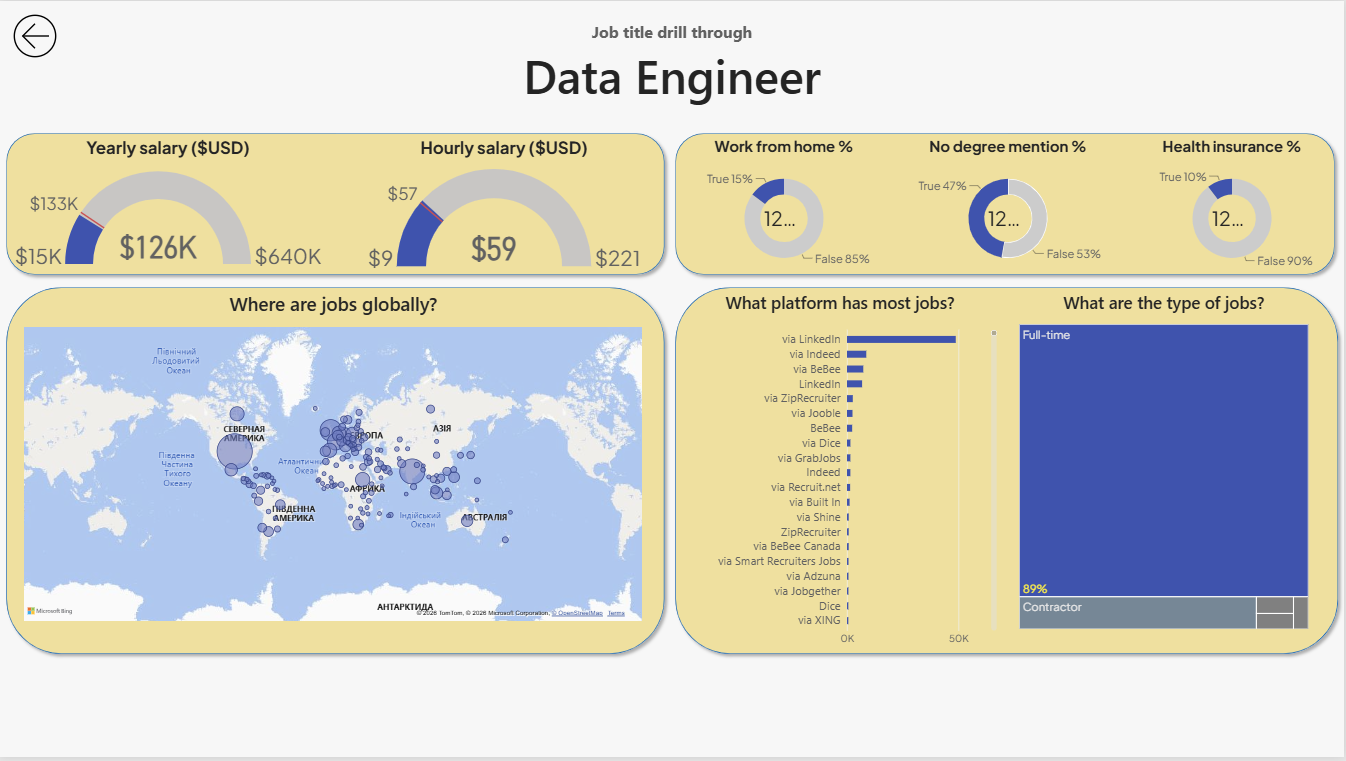

This screenshot's page, from the dashboard's own definition file:
{"tool":"powerbi","page":{"name":"Job title drill  through","canvas":[1920,1080],"ordinal":1},"visuals":[{"type":"group","id":"g1","title":"Background","box":[0,180,1920,761.7],"z":500},{"type":"cardVisual","fields":{"Data":["Min(job_postings_flat.job_title_short)1"]},"box":[480,0,960,180],"z":1000},{"type":"actionButton","box":[0,0,100,100],"z":2000},{"type":"gauge","title":"Yearly salary ($USD)","fields":{"MaxValue":["Max(job_postings_flat.salary_year_avg)1"],"MinValue":["Min(job_postings_flat.salary_year_avg)"],"TargetValue":["Avg(job_postings_flat.salary_year_avg)2"],"Y":["Median(job_postings_flat.salary_year_avg)"]},"box":[0,180,480,220],"z":4000},{"type":"gauge","title":"Hourly salary ($USD)","fields":{"MaxValue":["Max(job_postings_flat.salary_hour_avg)1"],"MinValue":["Min(job_postings_flat.salary_hour_avg)"],"TargetValue":["Avg(job_postings_flat.salary_hour_avg)2"],"Y":["Median(job_postings_flat.salary_hour_avg)"]},"box":[480,180,480,220],"z":6000},{"type":"donutChart","title":"Work from home %","fields":{"Category":["job_postings_flat.job_work_from_home"],"Y":["CountNonNull(job_postings_flat.job_work_from_home)"]},"box":[960,180,320,220],"z":8000},{"type":"donutChart","title":"No degree mention %","fields":{"Category":["job_postings_flat.job_no_degree_mention"],"Y":["CountNonNull(job_postings_flat.job_work_from_home)"]},"box":[1280,180,320,220],"z":9000},{"type":"donutChart","title":"Health insurance %","fields":{"Category":["job_postings_flat.job_health_insurance"],"Y":["CountNonNull(job_postings_flat.job_work_from_home)"]},"box":[1600,180,320,220],"z":10000},{"type":"map","title":"Where are jobs globally?","fields":{"Category":["job_postings_flat.job_country"],"Size":["CountNonNull(job_postings_flat.job_title_short)"]},"box":[18.3,400,915,501.7],"z":11000},{"type":"treemap","title":"What are the type of jobs?","fields":{"Group":["job_postings_flat.job_schedule_type"],"Values":["CountNonNull(job_postings_flat.job_schedule_type)"]},"box":[1440,400,445,513.3],"z":12000},{"type":"barChart","title":"What platform has most jobs?","fields":{"Category":["job_postings_flat.job_via"],"Y":["CountNonNull(job_postings_flat.job_via)"]},"box":[960,400,480,541.2],"z":13000},{"type":"shape","box":[0,180,958.3,220],"z":13125,"group":"g1"},{"type":"shape","box":[955,180,960,220],"z":13250,"group":"g1"},{"type":"shape","box":[0,400,958.3,541.7],"z":13500,"group":"g1"},{"type":"shape","box":[955,400,965,541.7],"z":14000,"group":"g1"}]}

Visuals, with their boxes in screenshot pixels (x1, y1, x2, y2), scaled from the page's 1920x1080 canvas onto the 1346x761 screenshot:
"Background" group: x1=0 y1=127 x2=1345 y2=664
cardVisual - Min(job_postings_flat.job_title_short)1: x1=336 y1=0 x2=1010 y2=127
actionButton: x1=0 y1=0 x2=70 y2=70
"Yearly salary ($USD)" gauge: x1=0 y1=127 x2=336 y2=282
"Hourly salary ($USD)" gauge: x1=336 y1=127 x2=673 y2=282
"Work from home %" donutChart: x1=673 y1=127 x2=897 y2=282
"No degree mention %" donutChart: x1=897 y1=127 x2=1122 y2=282
"Health insurance %" donutChart: x1=1122 y1=127 x2=1345 y2=282
"Where are jobs globally?" map: x1=13 y1=282 x2=654 y2=635
"What are the type of jobs?" treemap: x1=1010 y1=282 x2=1321 y2=644
"What platform has most jobs?" barChart: x1=673 y1=282 x2=1010 y2=663
shape: x1=0 y1=127 x2=672 y2=282
shape: x1=669 y1=127 x2=1342 y2=282
shape: x1=0 y1=282 x2=672 y2=664
shape: x1=669 y1=282 x2=1345 y2=664
